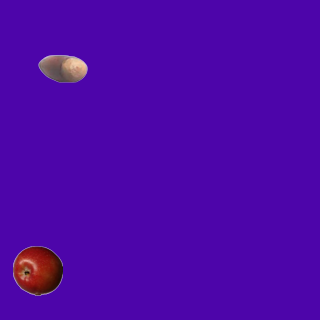Apple Braeburn: (12, 245, 62, 295)
Hazelnut: (37, 43, 87, 93)
